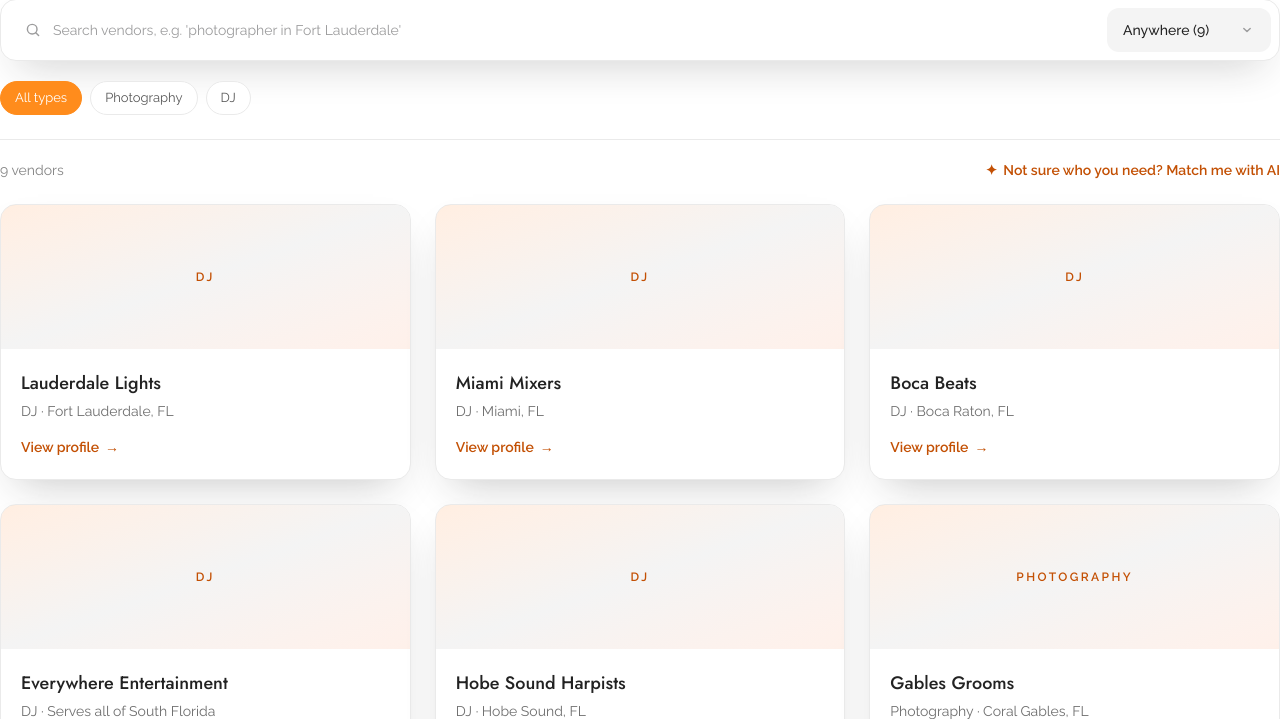
Test: VendorDirectoryList metro and area filters › says why a region-wide vendor is in a filtered list
This screenshot has width=1280, height=719.
Select "South Florida (6)" in the dropdown named "Metro": (1189, 30) [1107,8,1271,52]
(page scrolled)
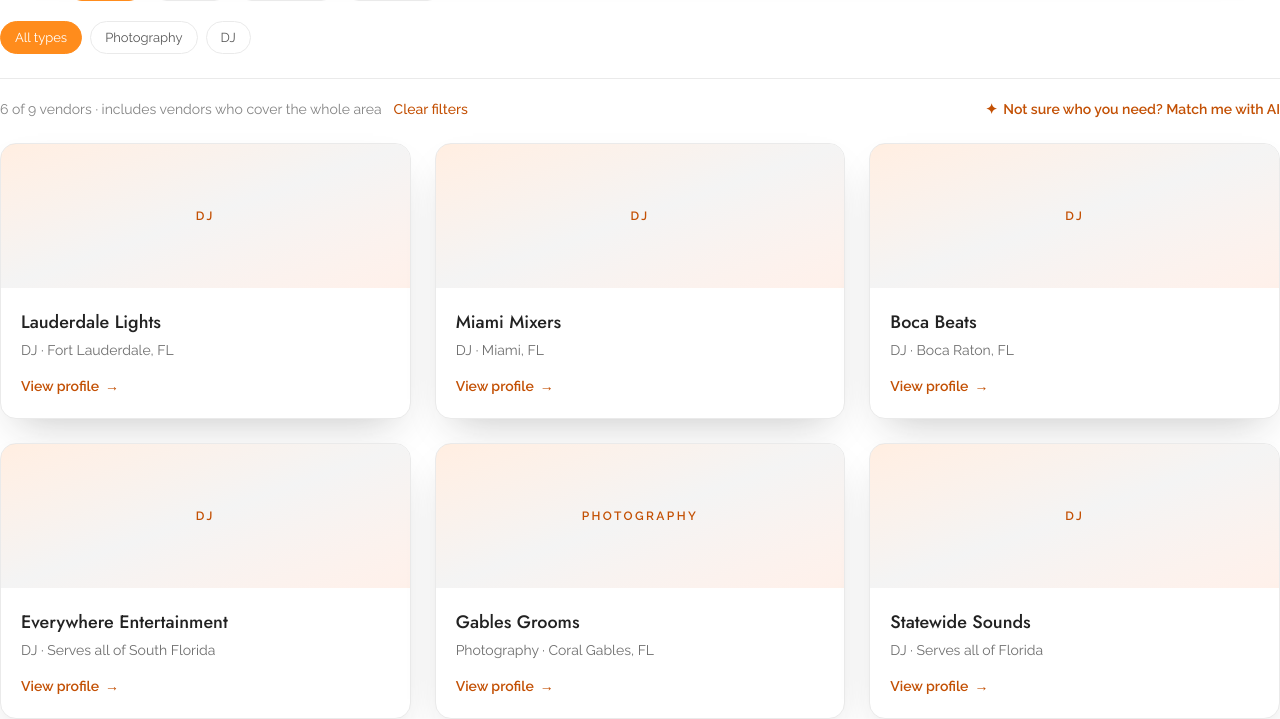
Check: the text "DJ · Serves all of South Florida" is shown, box [21,642,215,658]
Check: the text "· includes vendors who cover the whole area" is shown, box [92,101,382,117]
